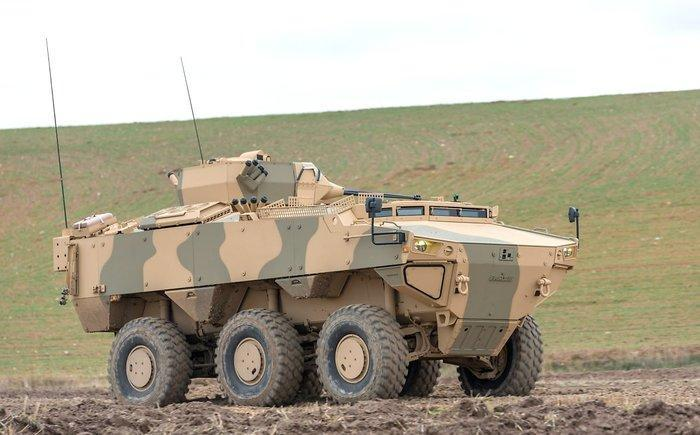MIL_IFV: (49, 149, 584, 411)
